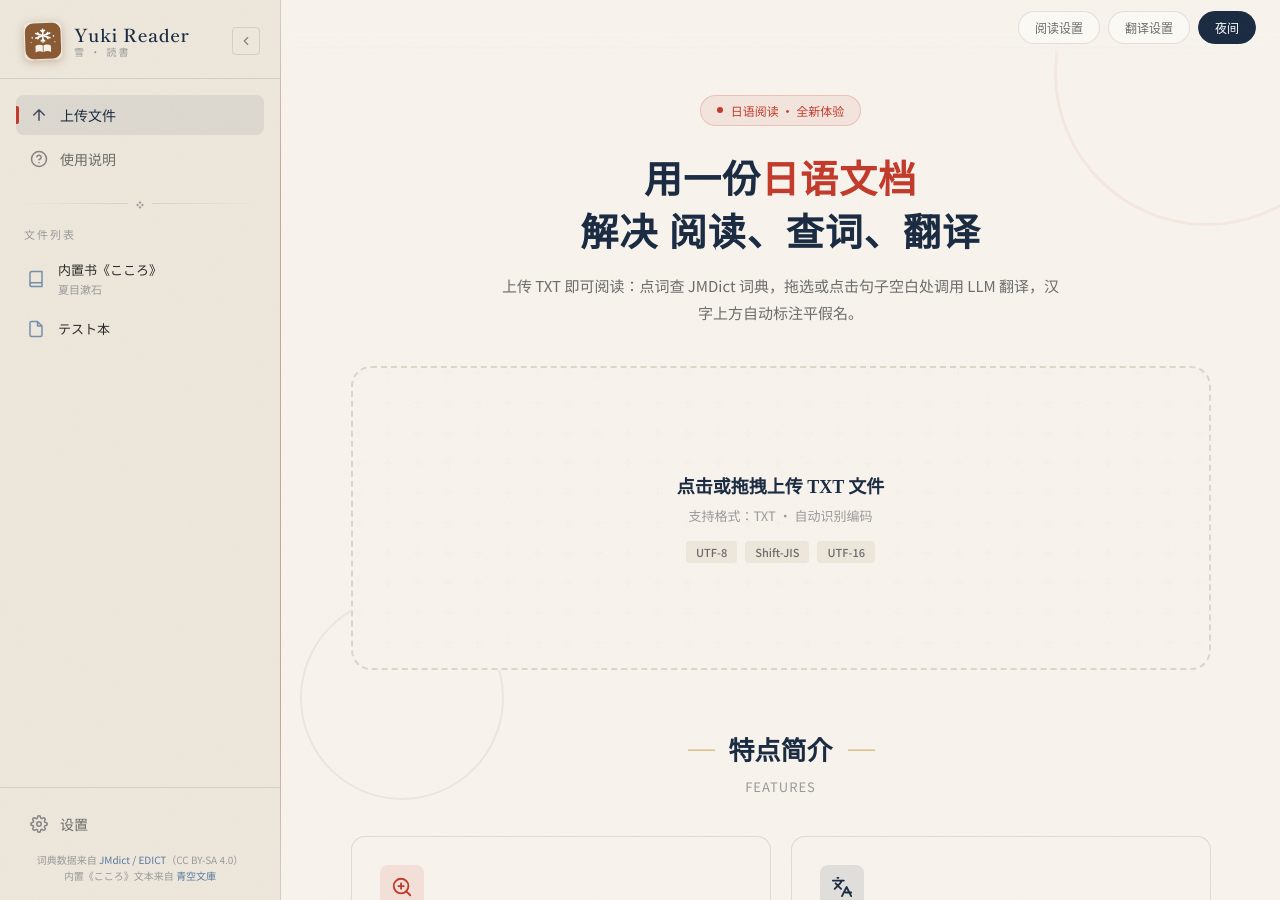
Test: 书籍类别判定与提示词路由 › injects the two preceding sentences as context for sentence clicks
The width and height of the screenshot is (1280, 900).
Step 1. Click the button "テスト本" → [125, 328], box x1=12 y1=309 x2=238 y2=348
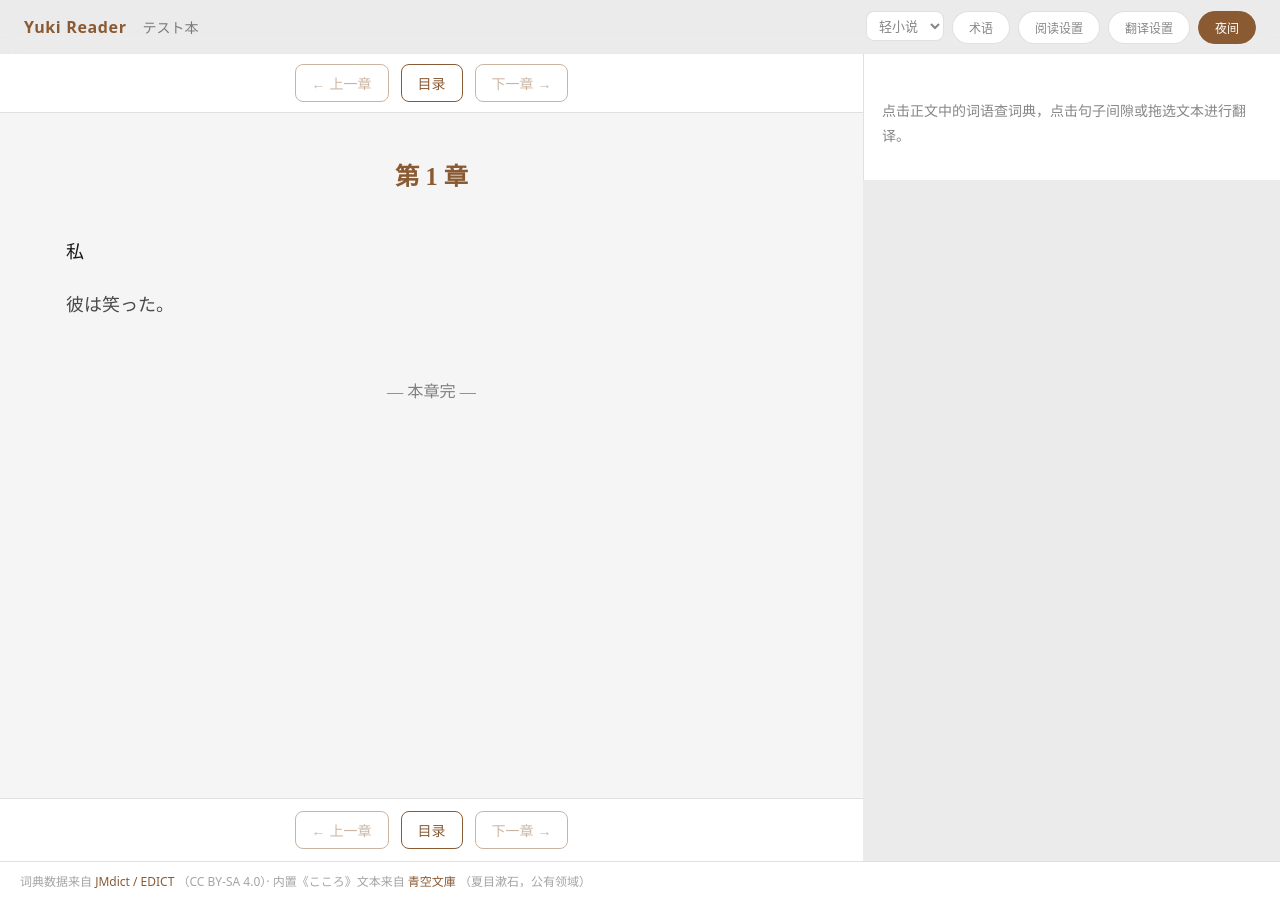
Step 2. Click the text with test id "sentence" showing "彼は笑った。" → [120, 305], box x1=66 y1=295 x2=174 y2=315
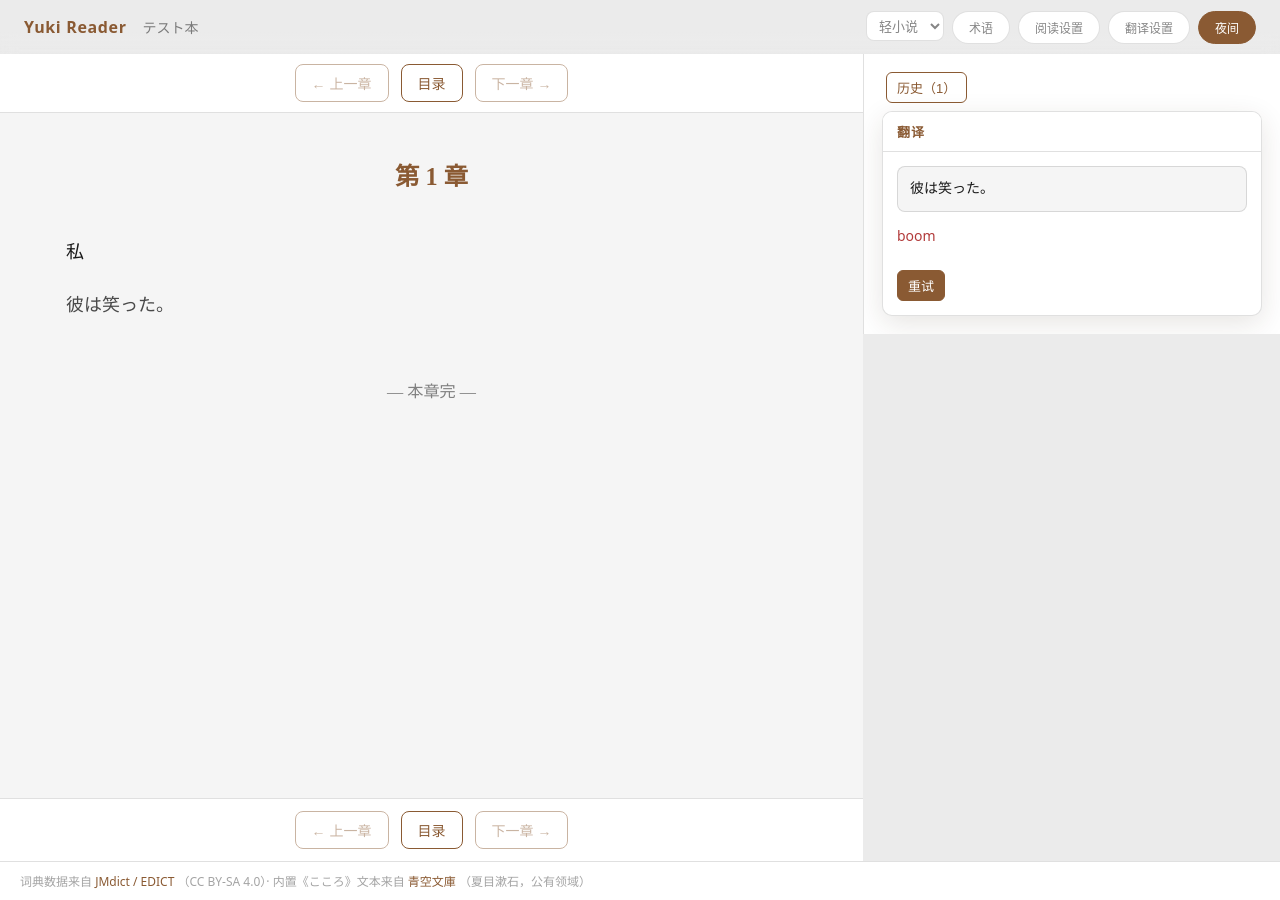
Result: the text "boom" is shown at x1=897 y1=226 x2=936 y2=245
Step 3. Click the button "重试" → [921, 285], box x1=897 y1=270 x2=945 y2=301
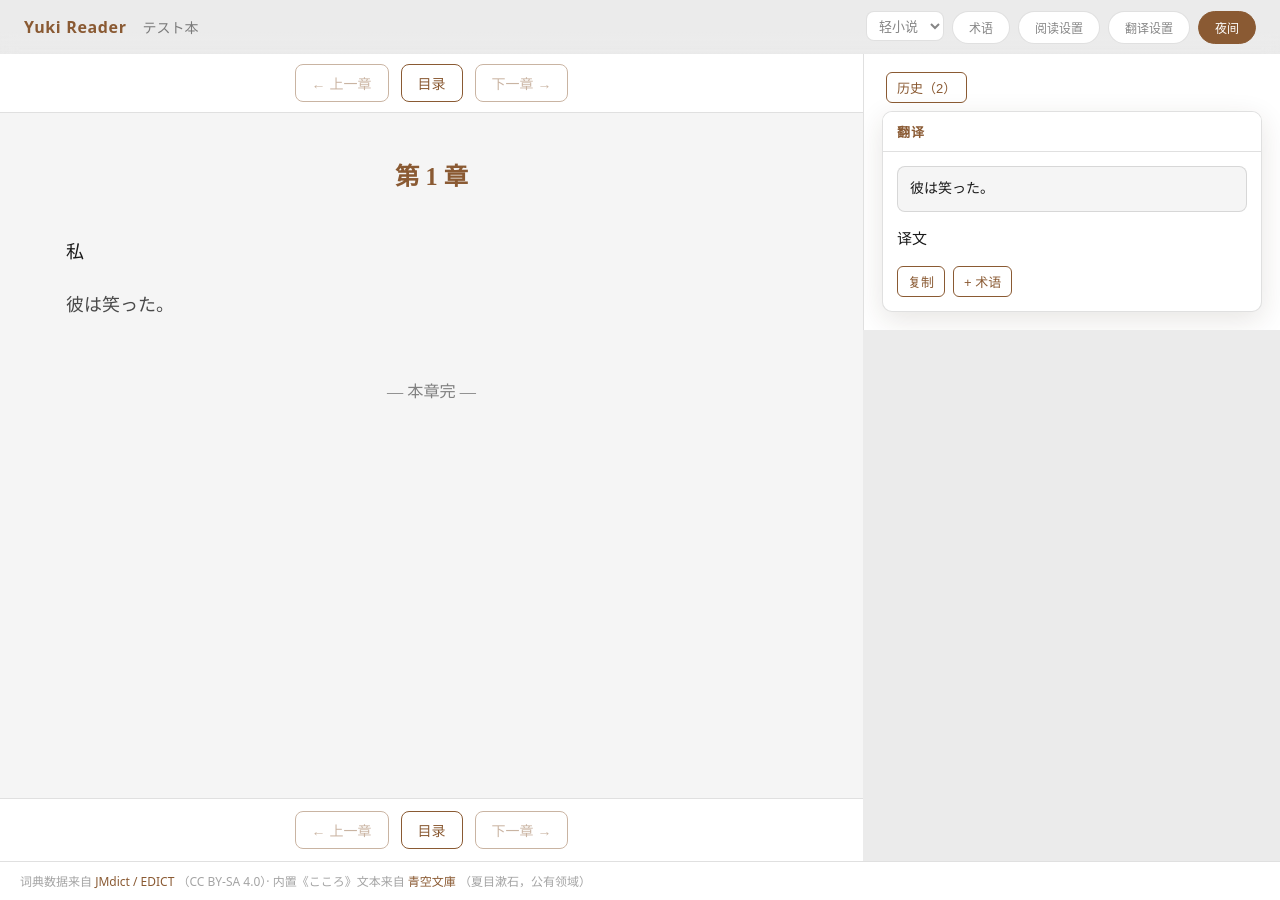
Result: the text "译文" is shown at x1=897 y1=228 x2=927 y2=248
